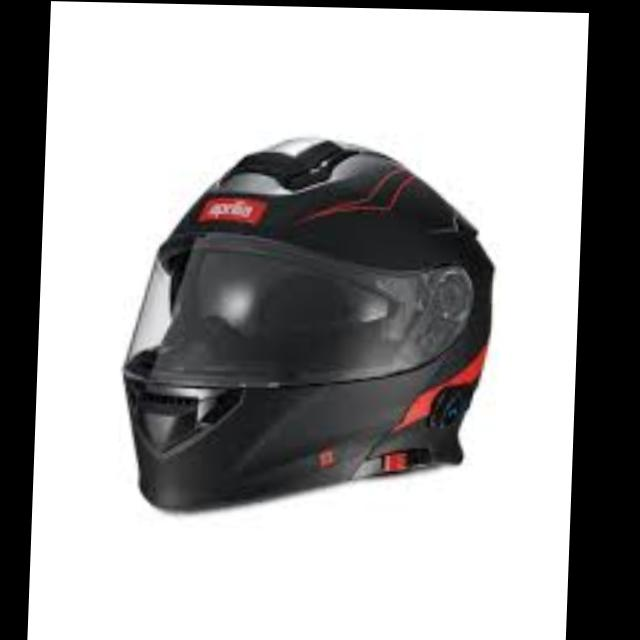motorcycle-helmets: (103, 118, 502, 528)
